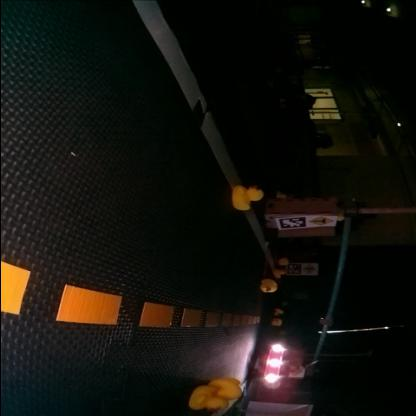Duckie: (190, 386, 229, 412), (232, 186, 264, 210), (210, 378, 242, 400), (261, 280, 277, 293), (272, 270, 285, 279), (272, 320, 282, 326), (280, 260, 288, 266), (275, 310, 283, 316)
Duckiebot: (254, 342, 296, 387)
Intersection sign: (312, 217, 334, 227), (304, 265, 316, 275)
QR code: (278, 218, 306, 230), (287, 264, 301, 276)
Traffic light: (320, 317, 327, 326)
